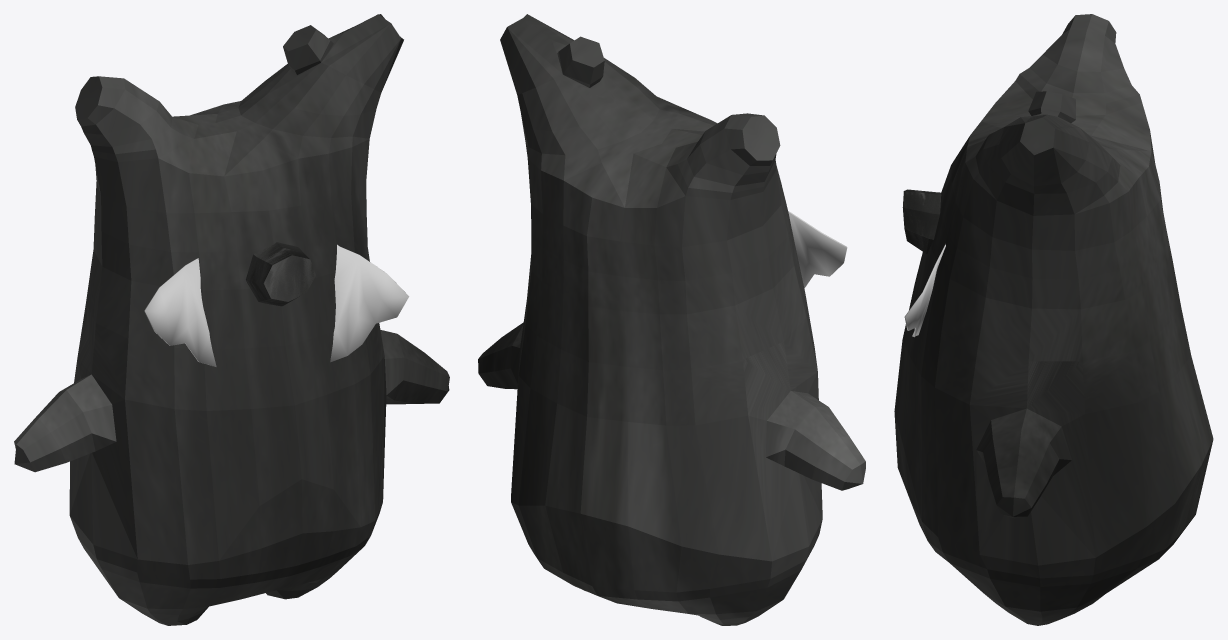
The model's file is frame_0145.obj.
3 views of the same model, side by side, from view 1: azimuth 30°, elevation 25°; view 2: azimuth 150°, elevation 25°; view 3: azimuth 270°, elevation 25° (orthographic).
Visible parts, largest first — view 1: korok, leaf, nose; view 2: korok, leaf; view 3: korok, nose, leaf.
Boxes of the visible parts, <box> form: korok: <box>14,14,449,625</box>; leaf: <box>144,244,409,366</box>; nose: <box>246,242,315,306</box>; korok: <box>478,14,865,625</box>; leaf: <box>788,211,847,288</box>; korok: <box>894,14,1213,625</box>; nose: <box>902,189,941,253</box>; leaf: <box>904,244,945,337</box>.
Size of the model in its own units: 1.69 by 2.21 by 1.17.
